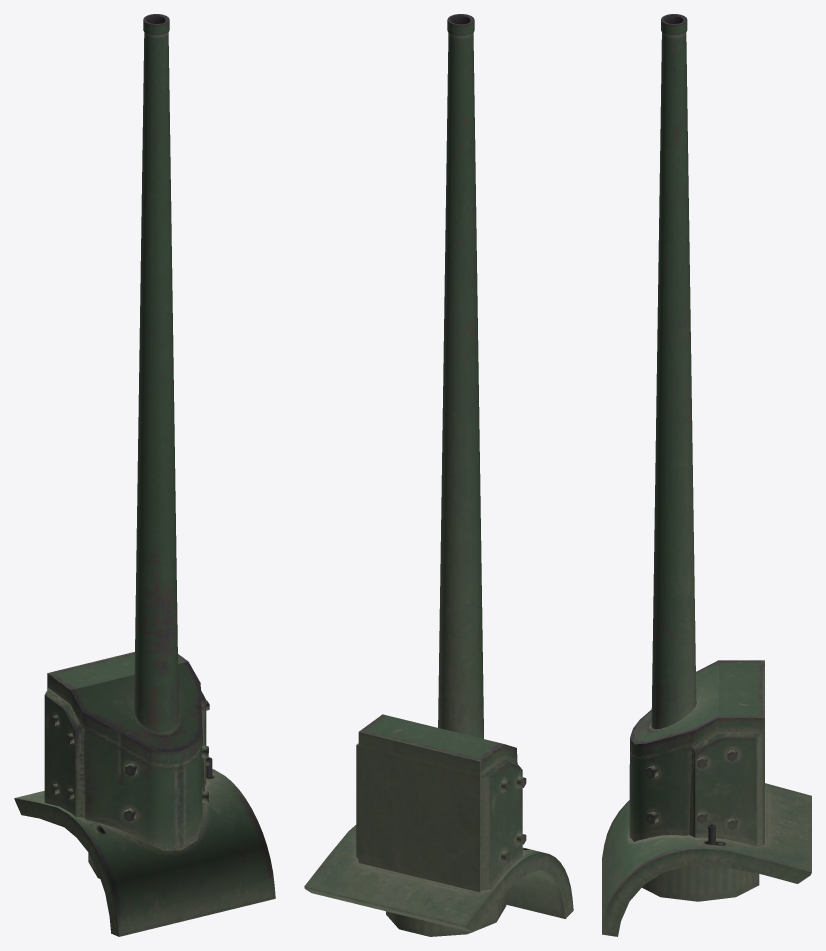
The model's file is Gun_03.glb.
3 views of the same model, side by side, from view 1: azimuth 30°, elevation 25°; view 2: azimuth 150°, elevation 25°; view 3: azimuth 270°, elevation 25° (orthographic). The views are drawn at different scales.
Visible parts, largest first — view 1: set_0_group_0; view 2: set_0_group_0; view 3: set_0_group_0.
Boxes of the visible parts, bbox=[...] form: set_0_group_0: bbox=[14, 14, 275, 936]; set_0_group_0: bbox=[304, 14, 573, 936]; set_0_group_0: bbox=[602, 14, 811, 936].
Bounding box in the file's own units: 0.5513 × 2.91 × 0.6326.
1 material, 1 textured.
